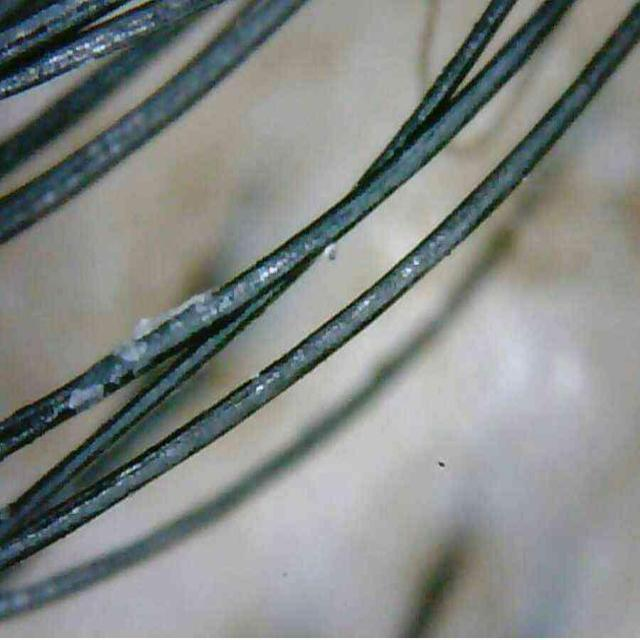d: (114, 290, 214, 374), (132, 289, 212, 340), (69, 384, 104, 412)
